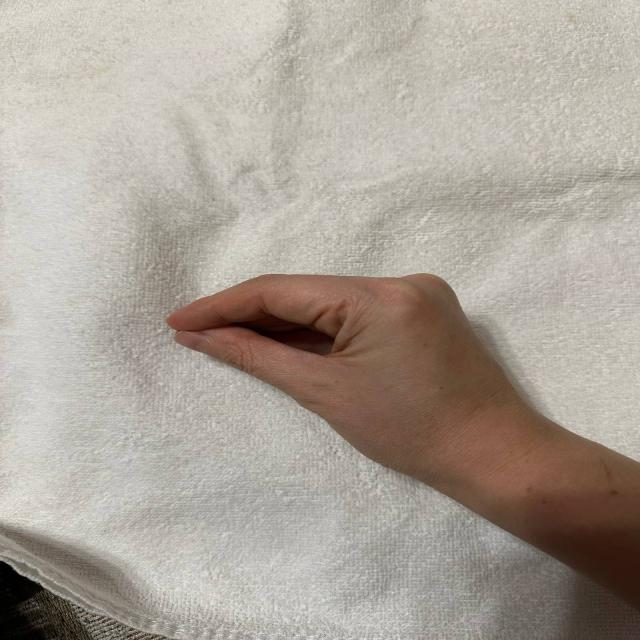zh: (145, 245, 471, 470)
